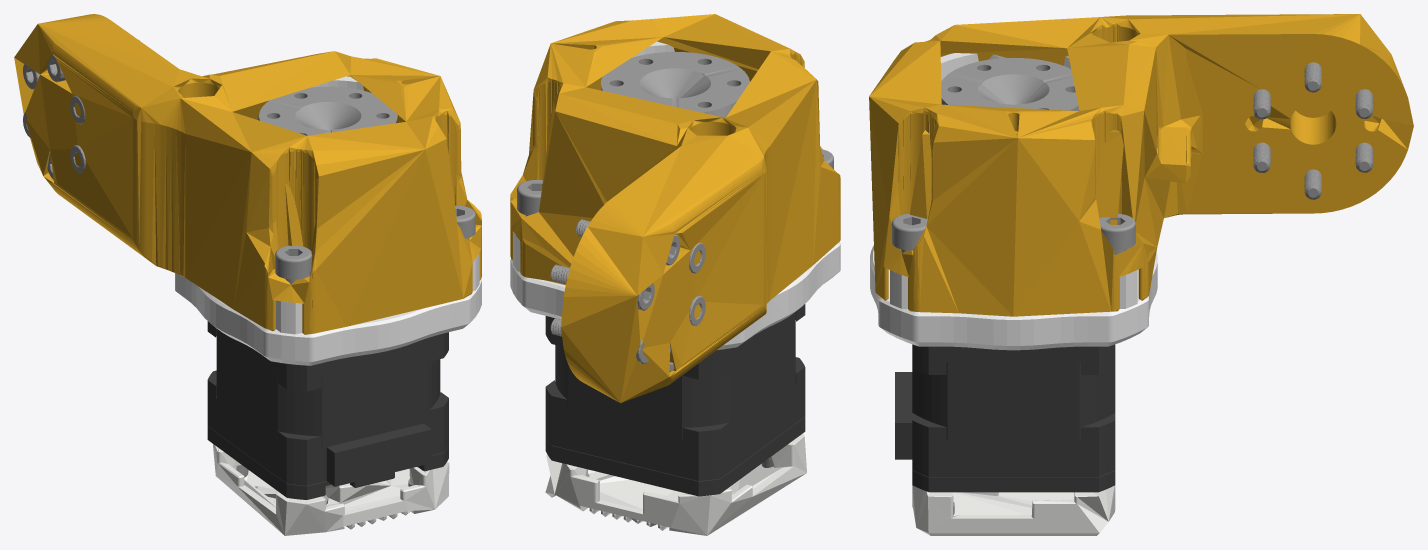
Rendered from full_step_link3-colors.obj.
3 renders of one model, left to right at view 1: azimuth 30°, elevation 25°; view 2: azimuth 150°, elevation 25°; view 3: azimuth 270°, elevation 25°, orthographic. The views are drawn at different scales.
Bounding box in the file's own units: 55.46 × 81.69 × 94.61.
